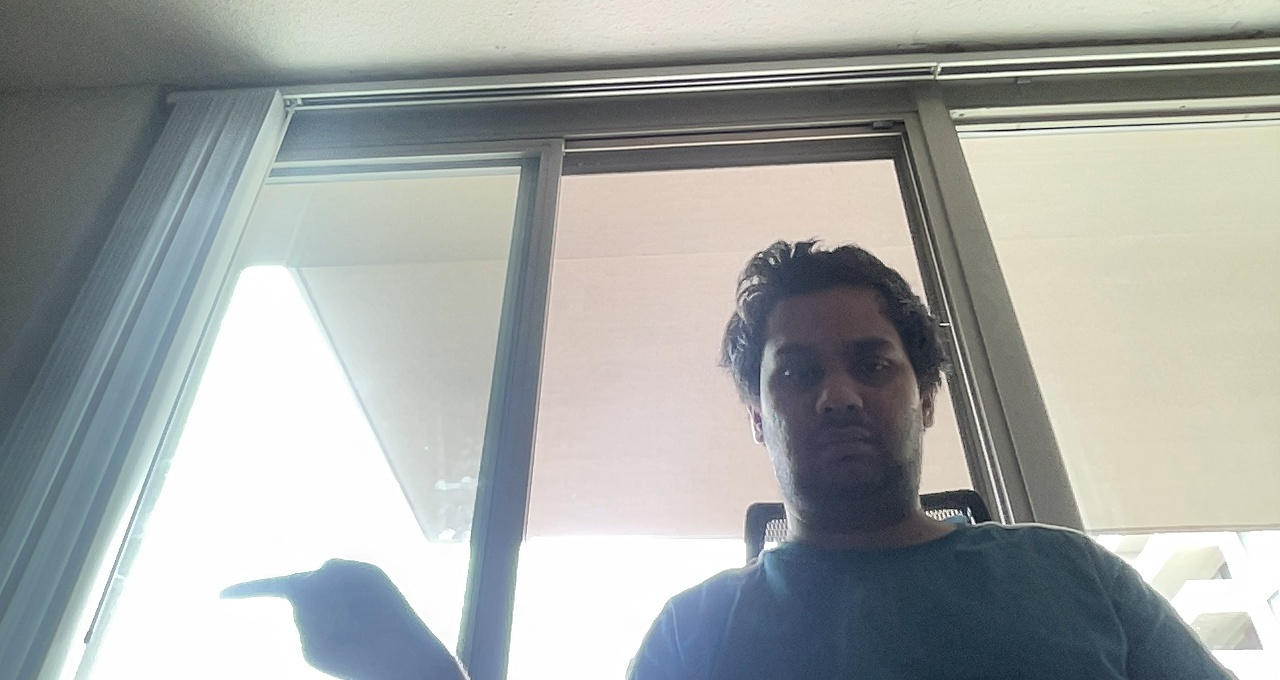fingerright: (208, 550, 463, 672)
